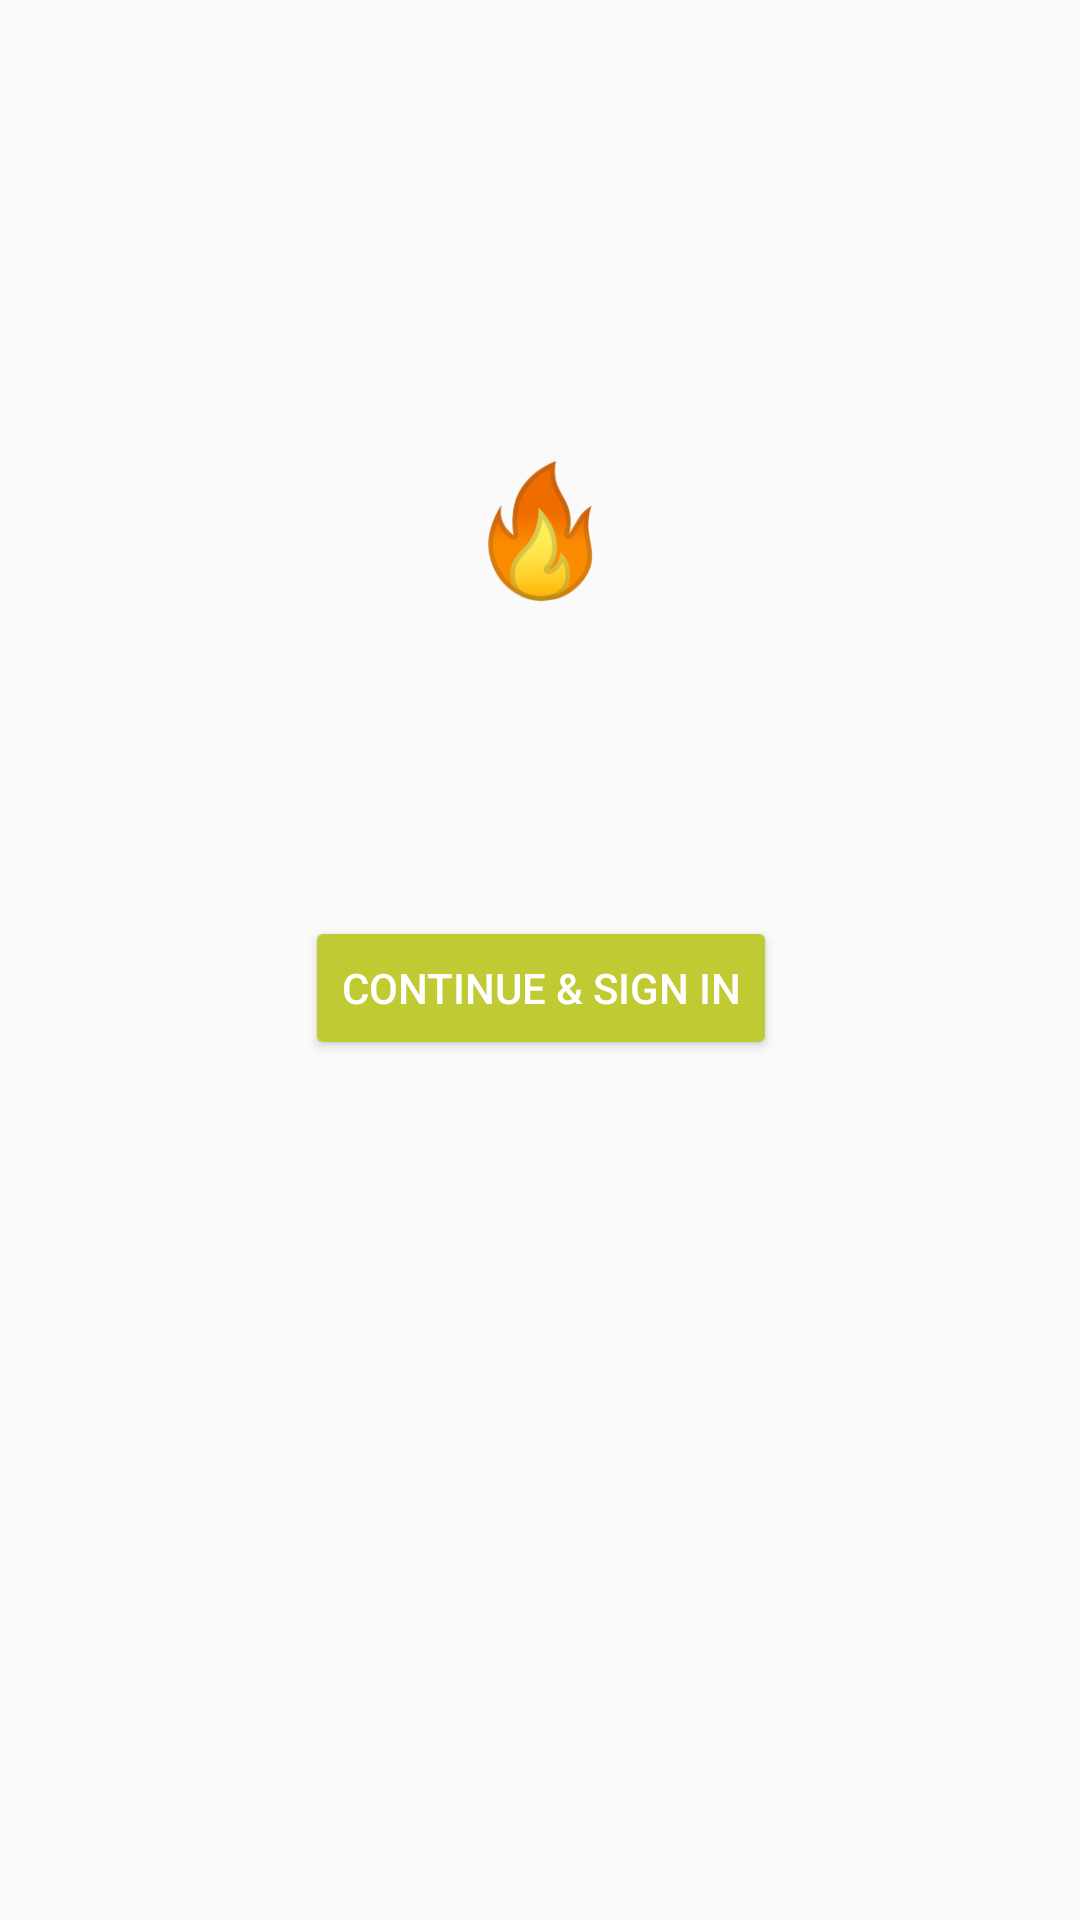

Named icons in this screenshot (1080*1920) and their bounding boxes, (x1, y1, x2, y2):
fire emoji: (488, 461, 593, 601)
